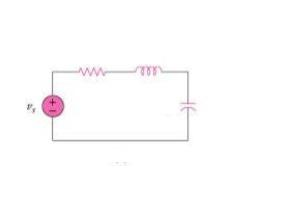resistor: (69, 60, 115, 81)
